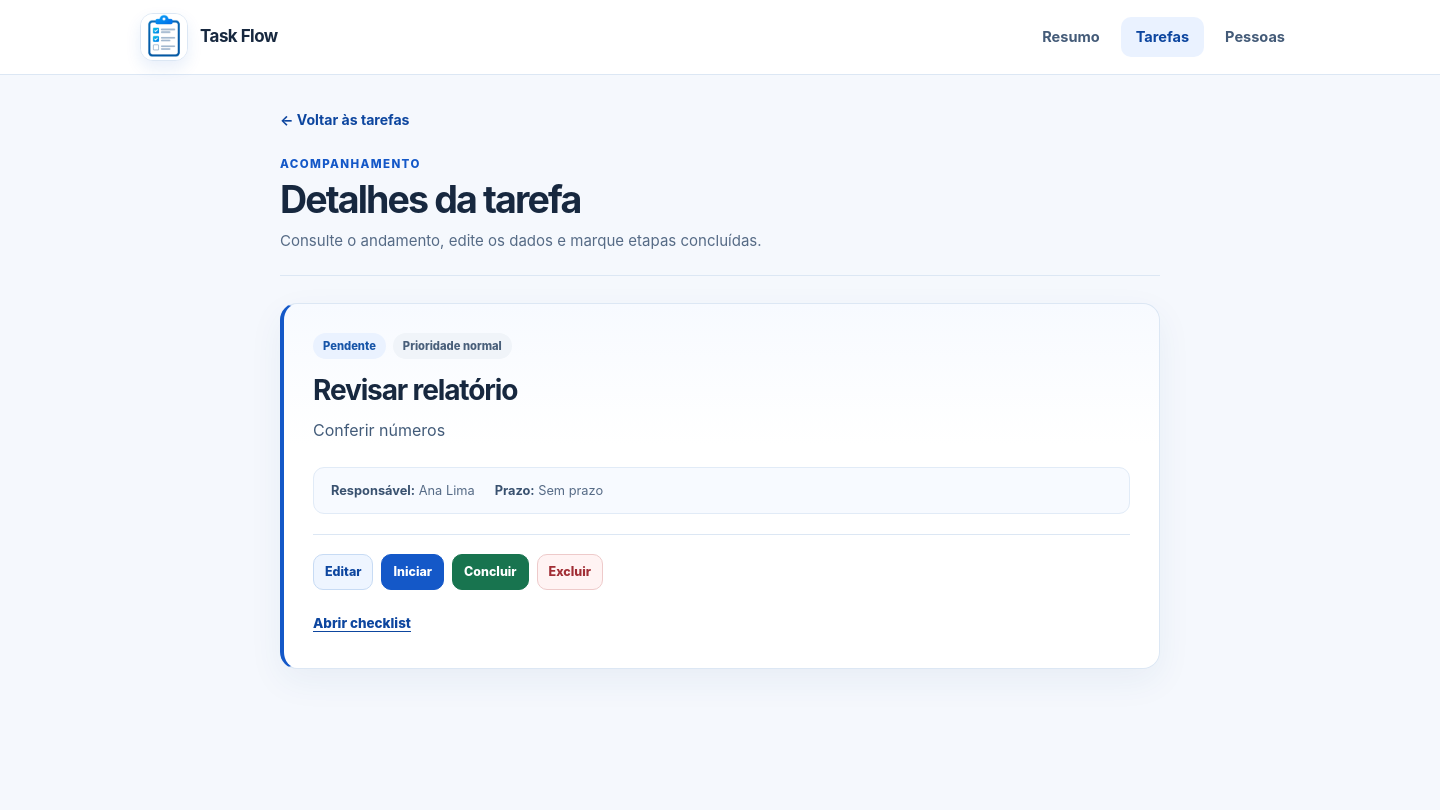
Test: checklist no detalhe usa a versão atualizada após criar uma subtarefa
Step 1. Click the button "Abrir checklist" → point(362, 623), box [313,608,411,639]
(page scrolled)
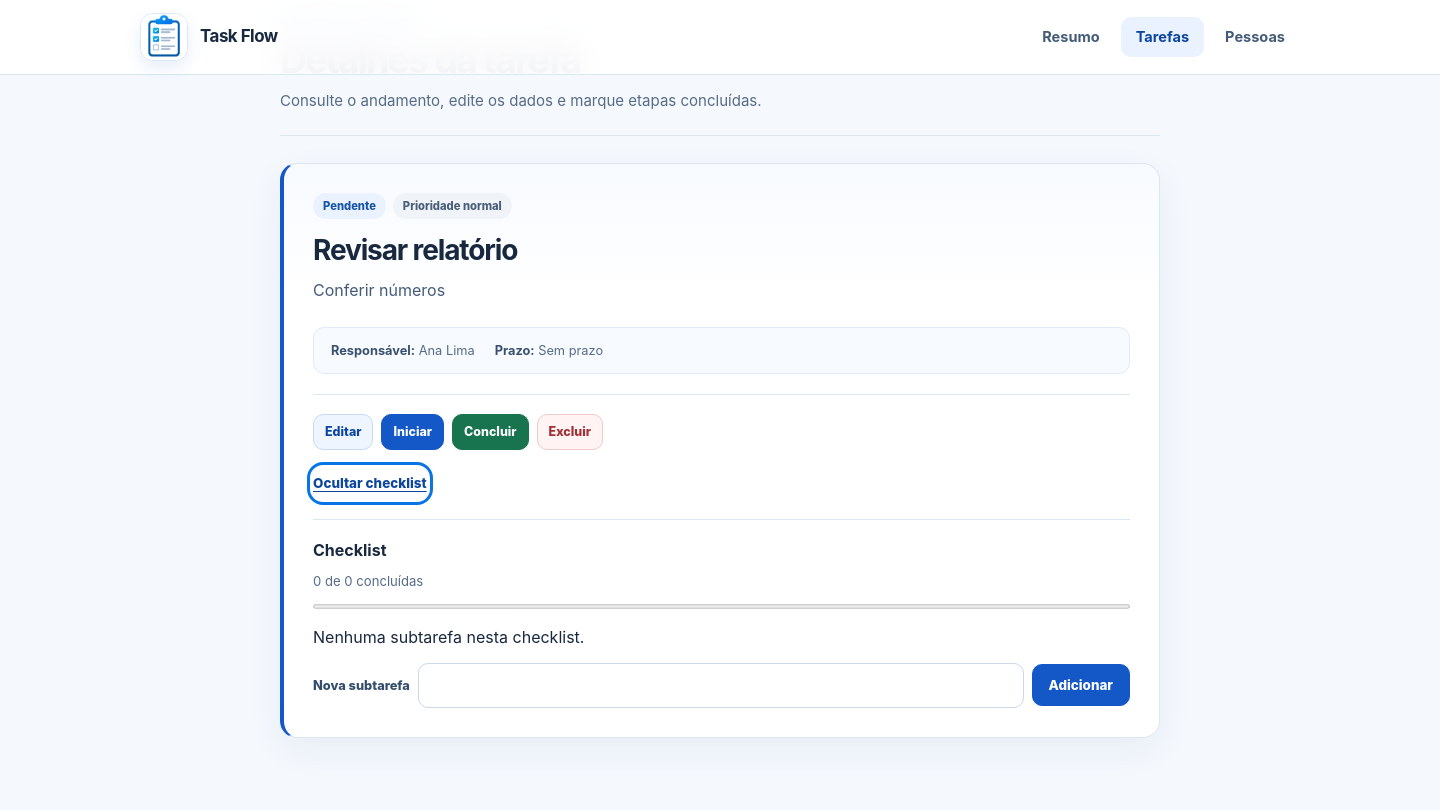
Step 2. Type "Conferir tabelas" into the field labelled "Nova subtarefa" → point(721, 685), box [418,663,1024,708]
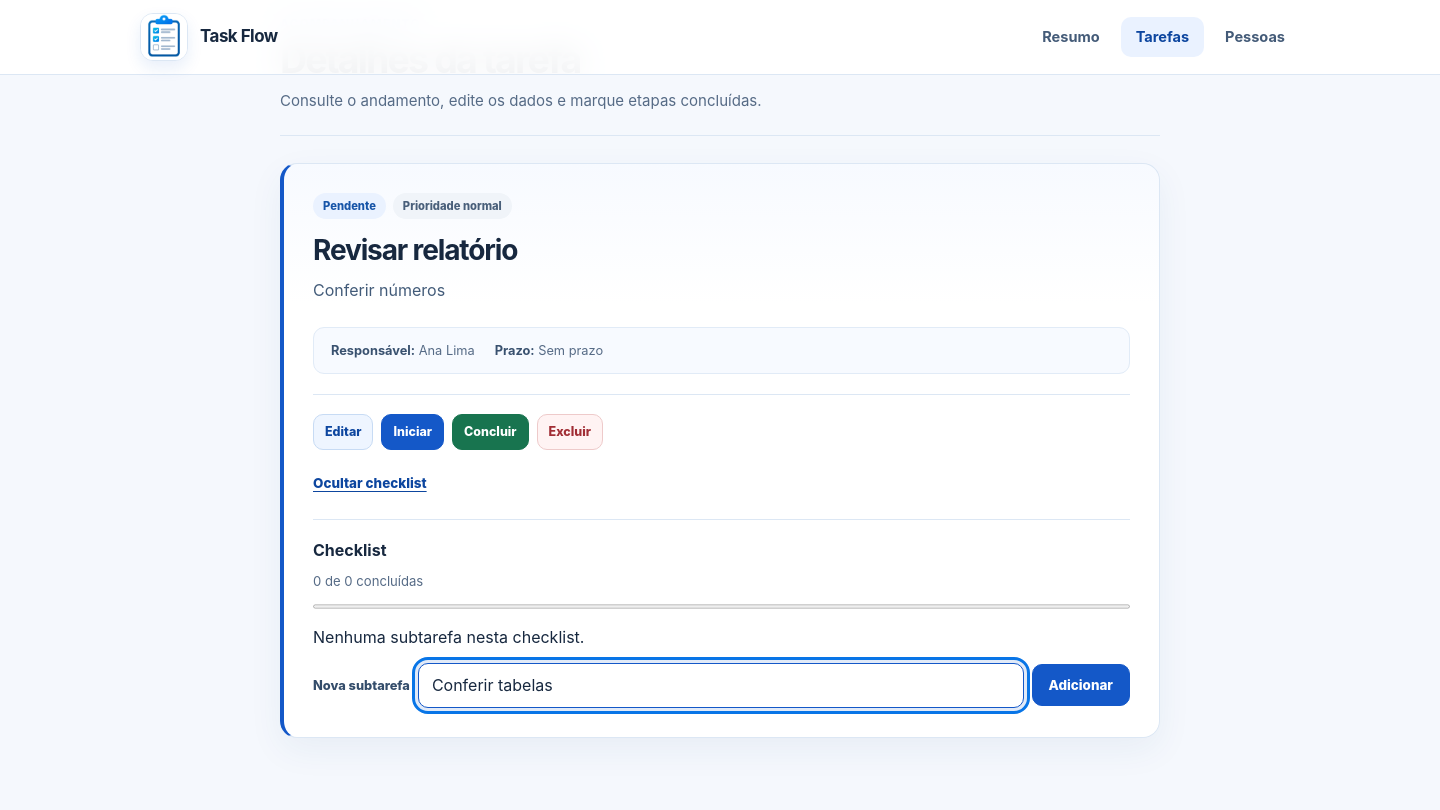
Step 3. Click the button "Adicionar" → point(1081, 685), box [1032,664,1130,706]
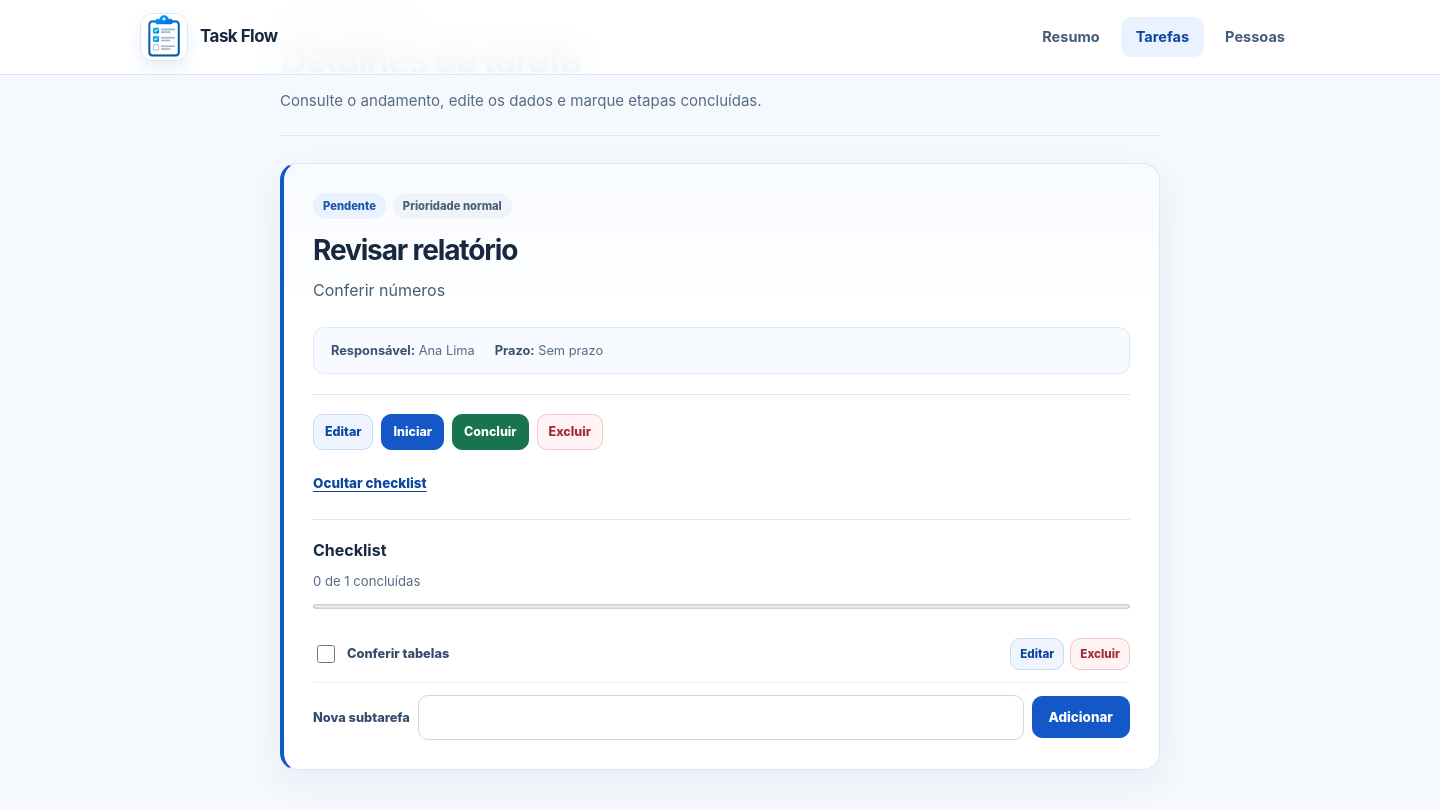
Check: the text "0 de 1 concluídas" is shown, box [313,573,420,589]
Step 4. Click the checkbox labelled "Conferir tabelas" → point(326, 654), box [317,645,335,663]
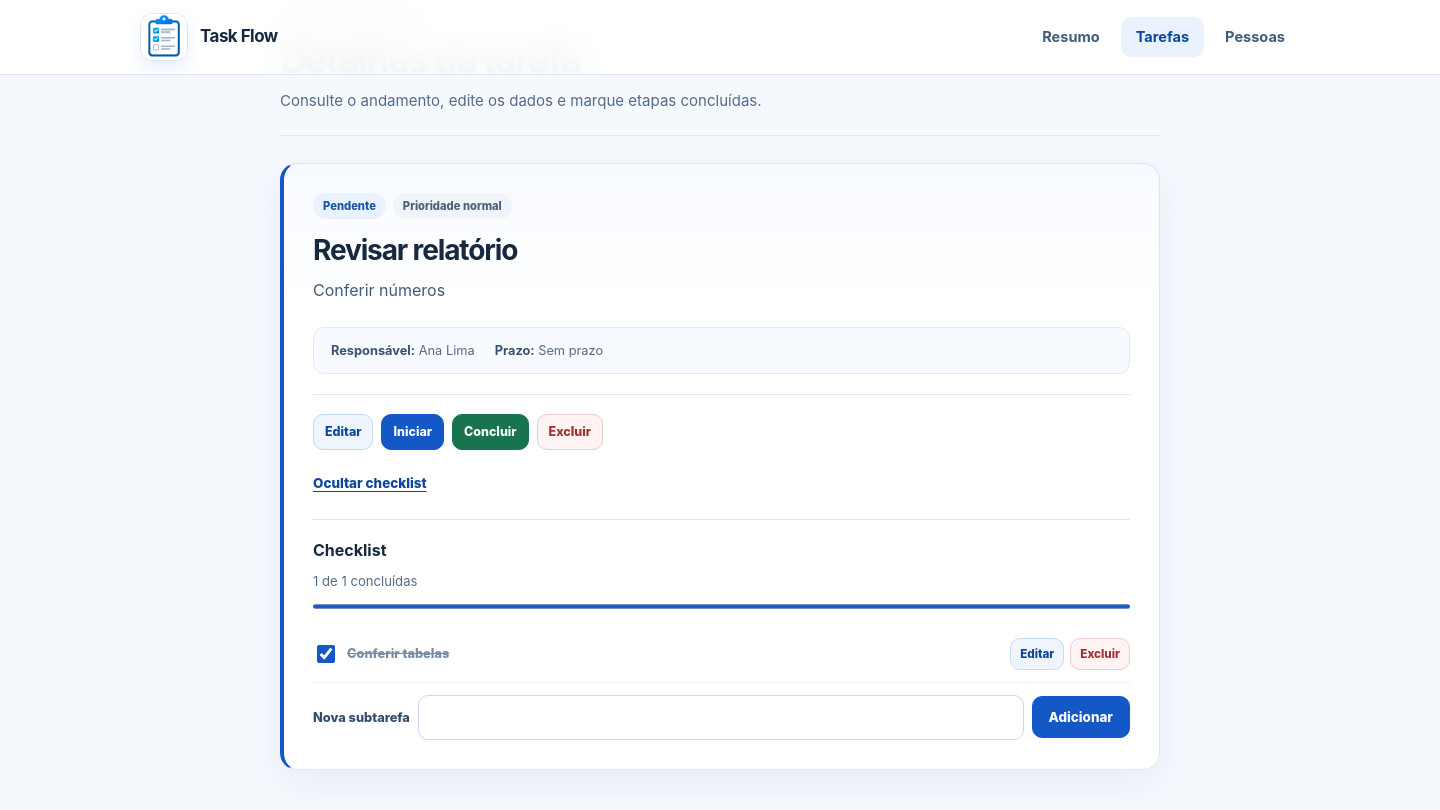
Check: the text "1 de 1 concluídas" is shown, box [313,573,417,589]
